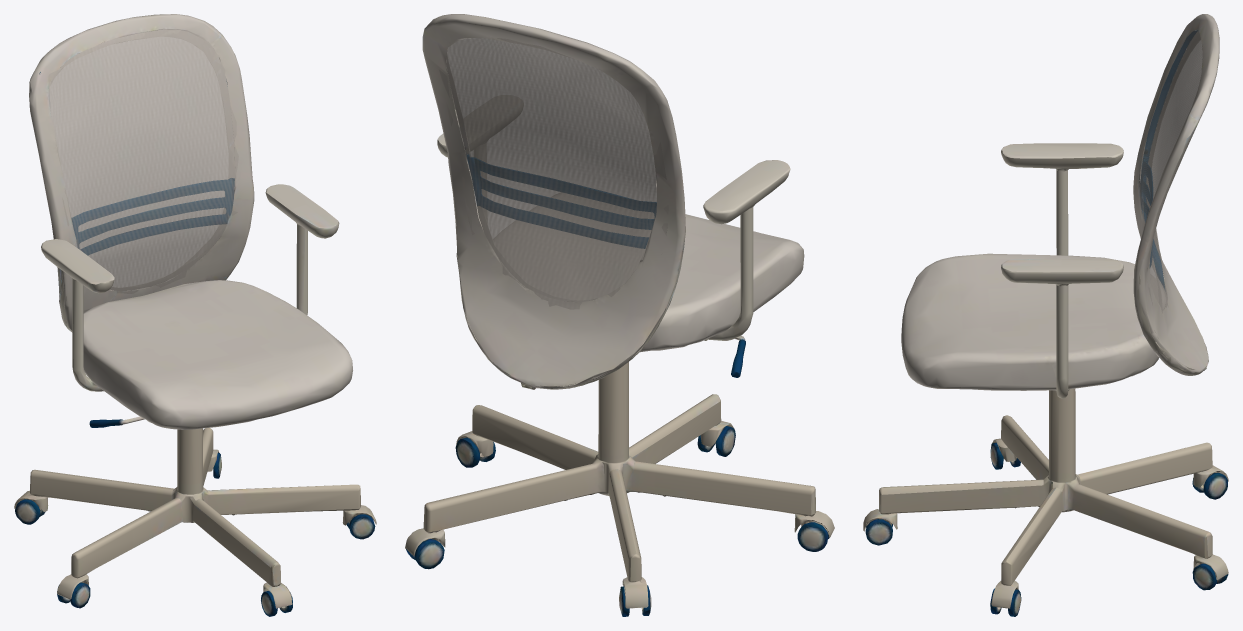
3 views of the same model, side by side, from view 1: azimuth 30°, elevation 25°; view 2: azimuth 150°, elevation 25°; view 3: azimuth 270°, elevation 25° (orthographic). The views are drawn at different scales.
Parts seen in each view (by area): view 1: ProcessedMeshNode; view 2: ProcessedMeshNode; view 3: ProcessedMeshNode.
Boxes of the visible parts, x1=… form: ProcessedMeshNode: x1=14, y1=14, x2=376, y2=616; ProcessedMeshNode: x1=405, y1=14, x2=834, y2=616; ProcessedMeshNode: x1=863, y1=14, x2=1228, y2=616.
Size of the model in its own units: 0.711 by 1.02 by 0.6769.
2 materials, 2 textured.
